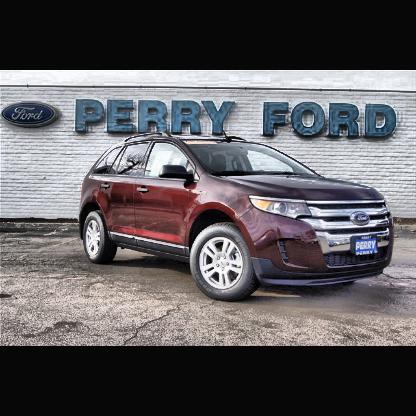Ford Edge SUV 2012: (79, 128, 397, 302)
